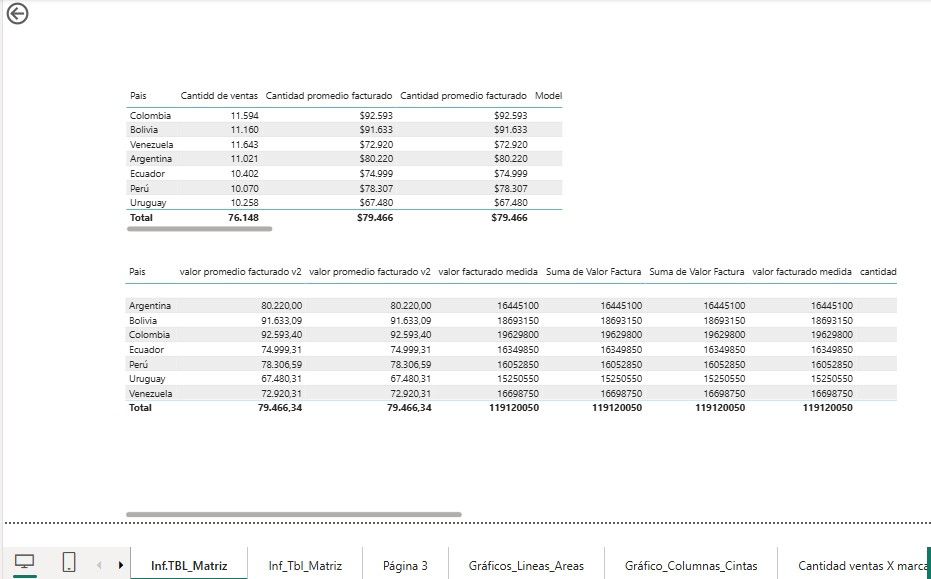

What the dashboard file says about the page in this screenshot:
{"tool":"powerbi","page":{"name":"Inf.TBL_Matriz","canvas":[1280,720],"ordinal":0},"visuals":[{"type":"actionButton","box":[0,0,100,40],"z":0},{"type":"tableEx","fields":{"Values":["País.Nombre","Factura.Cantidd de ventas","Factura.Cantidad de facturas","Factura.Cantidad de facturas","Factura.Modelos únicos","Factura.Modelos únicos","Factura.cantidad facturas","Factura.valor promedio facturado v2","Factura.valor facturado medida","Factura.valor facturado medida","Sum(Factura.Valor Factura)","Divide(Sum(Factura.Valor Factura), ScopedEval(Sum(Factura.Valor Factura), []))"]},"box":[163.3,117.2,610.7,209.5],"z":1000},{"type":"tableEx","fields":{"Values":["País.Nombre","Factura.valor promedio facturado v2","Factura.valor promedio facturado v2","Factura.valor facturado medida","Sum(Factura.Valor Factura)","Sum(Factura.Valor Factura)","Factura.valor facturado medida","Factura.cantidad facturas","Factura.Cantidad promedio facturado","Factura.Cantidad ventas Colombia","Factura.Cantidad ventas Colombia","Factura.cantidad facturas"]},"box":[163,359.8,1073.3,359.8],"z":2000}]}

Visuals, with their boxes on the page's 1280x720 design canvas (x1, y1, x2, y2). These are canvas units, not pixel positions in the 931x579 screenshot, which may show the page scaled, cropped or inside an application window:
actionButton: [0,0,100,40]
tableEx - País.Nombre x Factura.Cantidd de ventas: [163,117,774,327]
tableEx - País.Nombre x Factura.valor promedio facturado v2: [163,360,1236,720]
